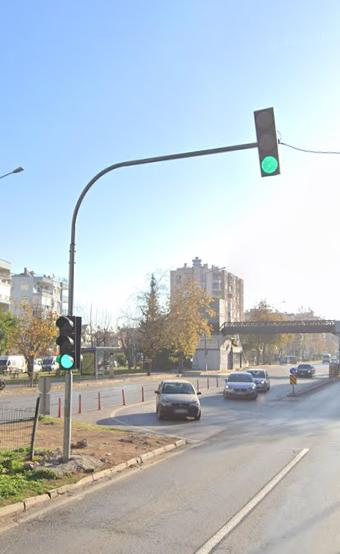greenlight: (254, 107, 282, 177), (56, 314, 79, 369)
